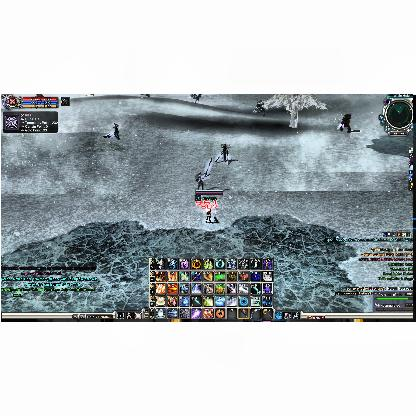caliana: (194, 158, 212, 188), (214, 144, 230, 165), (101, 122, 119, 140)
